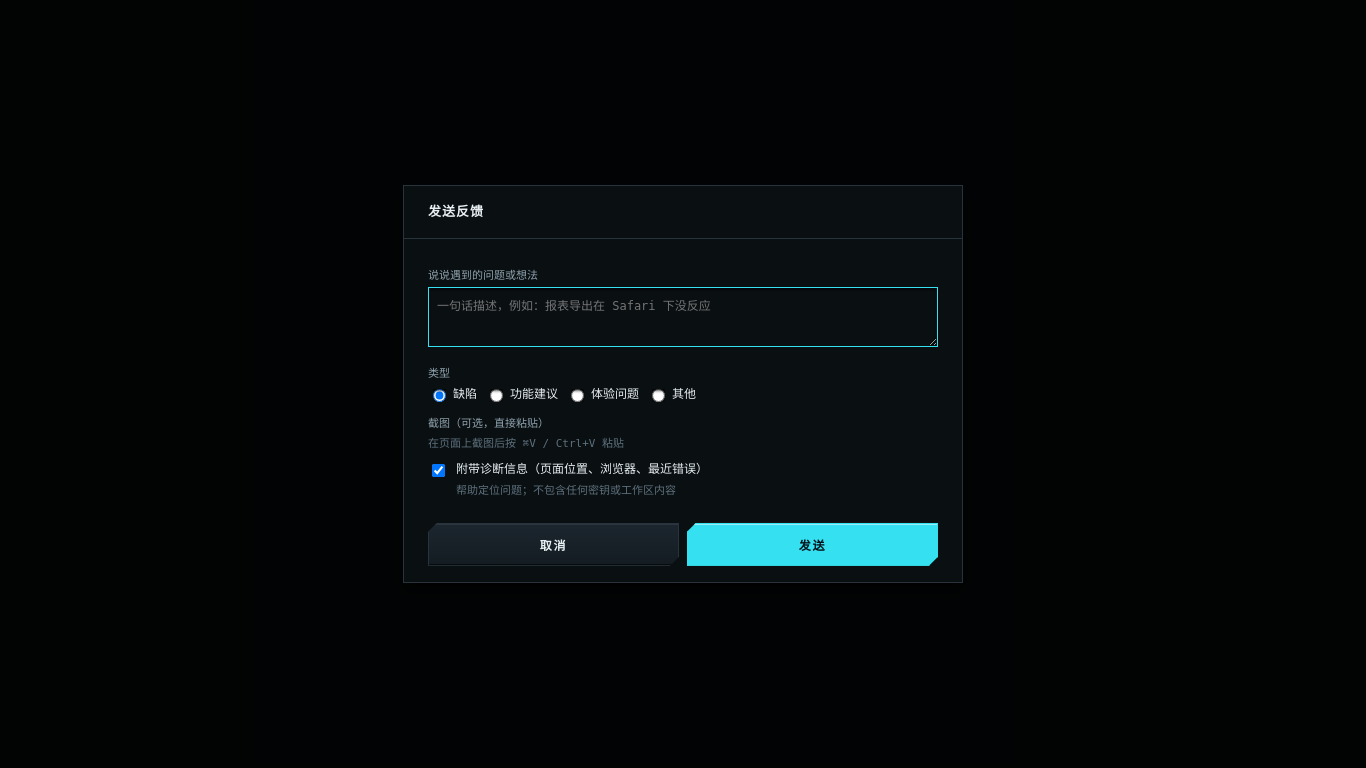
FeedbackModal › 提交失败显示错误且不关闭
The image size is (1366, 768).
Type "会失败的提交" into the text box labelled "说说遇到的问题或想法" at coordinates (683, 317), box [428,287,938,347]
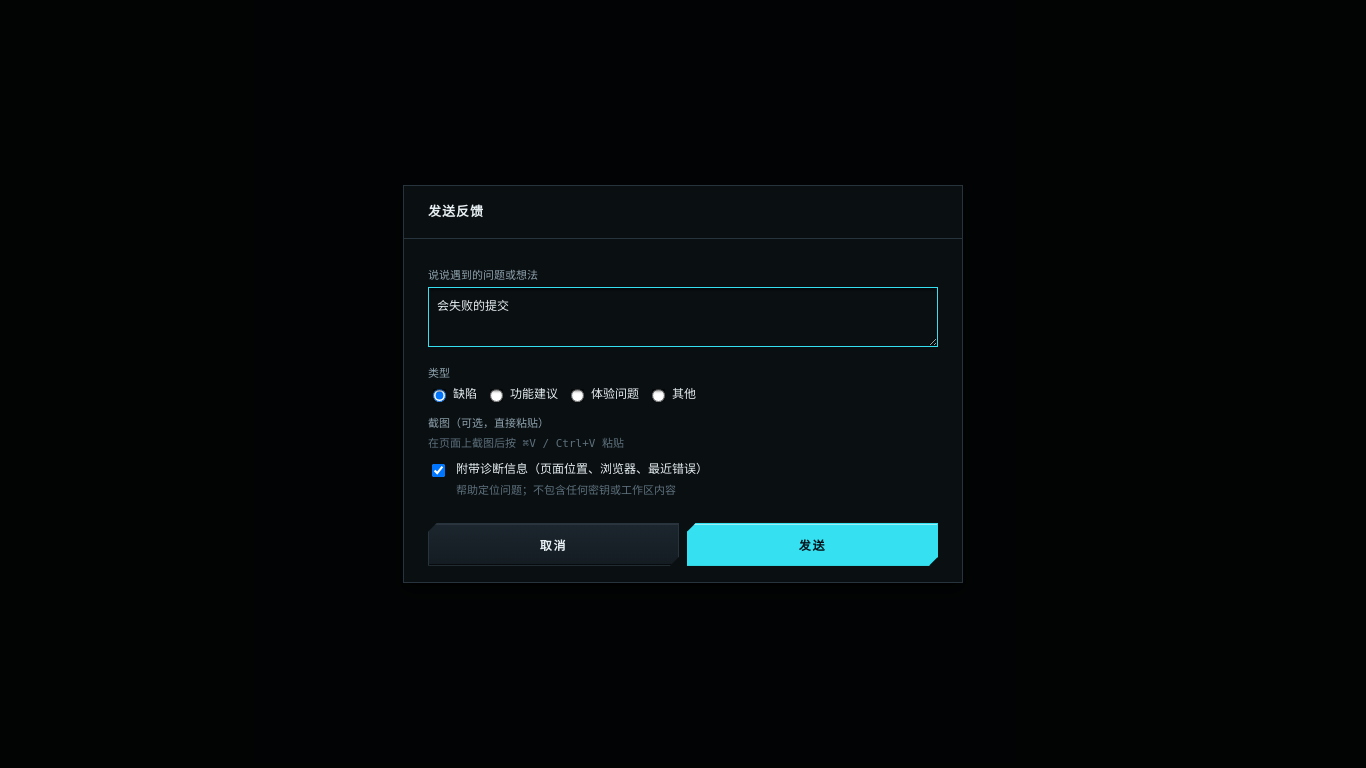
Click the button "发送" at coordinates (812, 544), box [687,523,938,566]
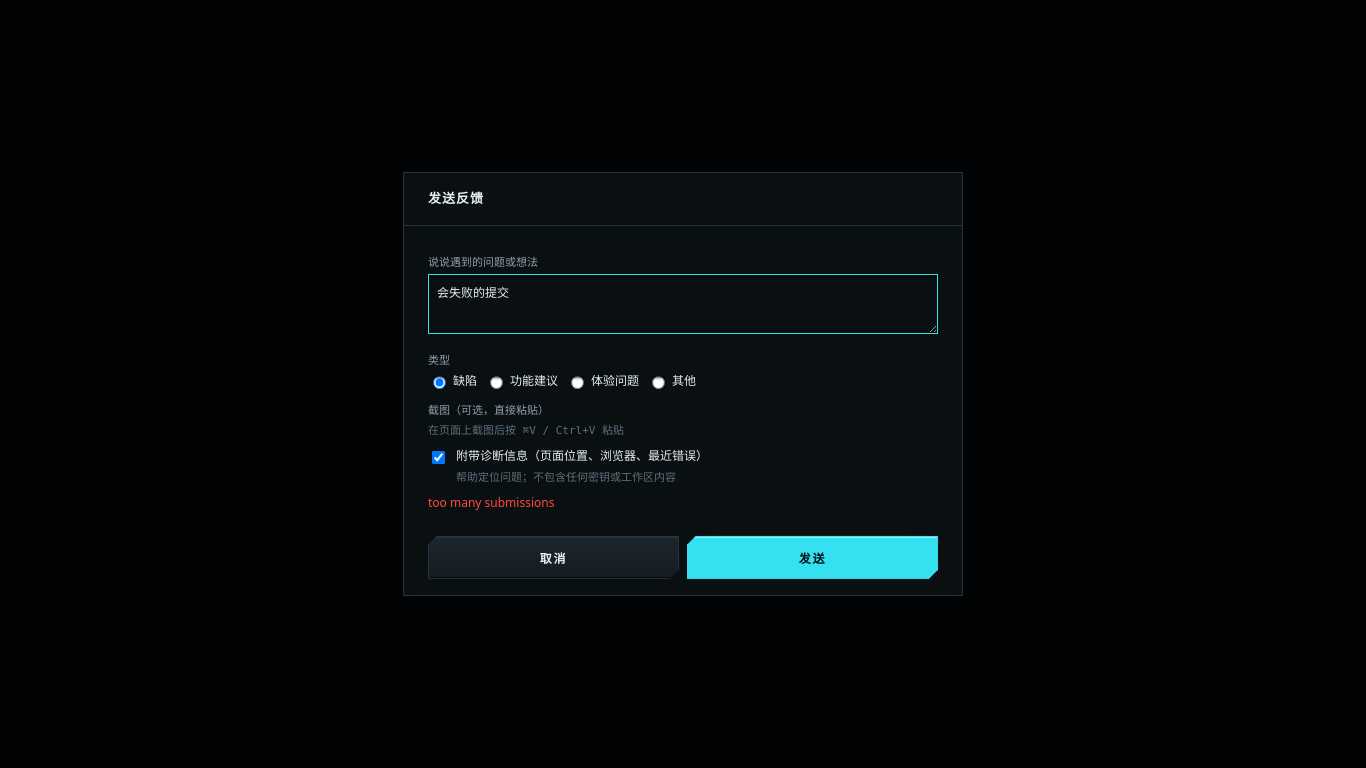
Expected: the text "too many submissions" is shown, [428,494,554,511]
